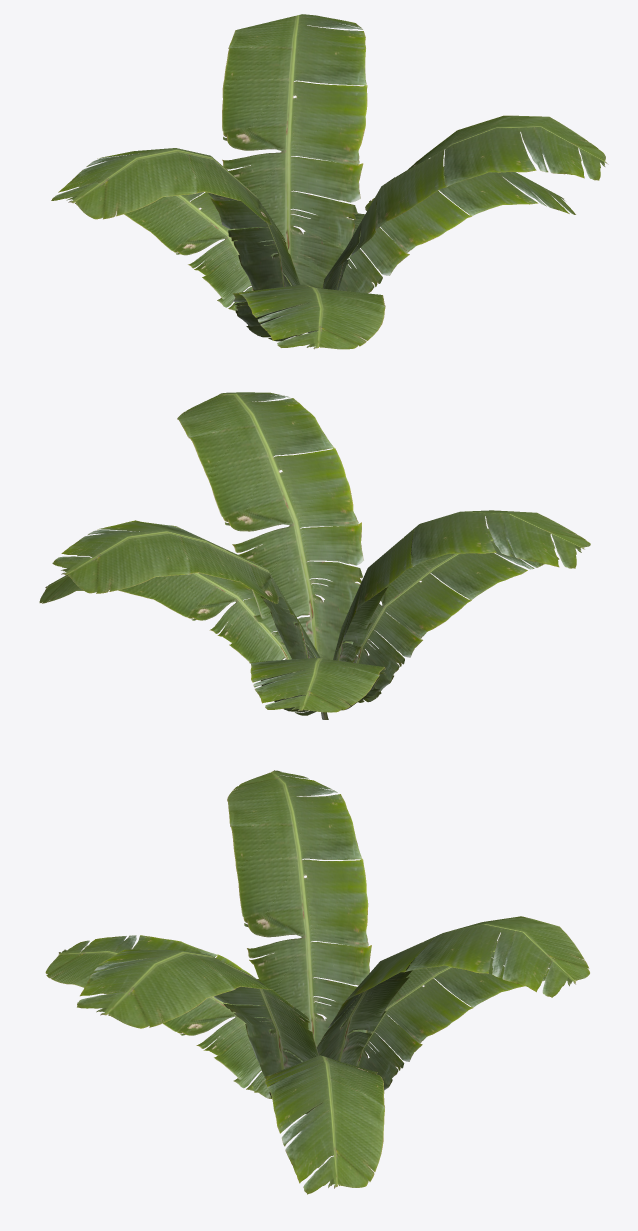
Rendered from elephant_ear.glb.
3 views of the same model, one above another, from view 1: azimuth 30°, elevation 25°; view 2: azimuth 150°, elevation 25°; view 3: azimuth 270°, elevation 25° (orthographic). The views are drawn at different scales.
Parts seen in each view (by area): view 1: trop_leav 4; view 2: trop_leav 4; view 3: trop_leav 4.
Boxes of the visible parts, x1,y1,x2,y2 form: trop_leav 4: (51, 14, 608, 349); trop_leav 4: (39, 392, 590, 719); trop_leav 4: (45, 770, 589, 1194).
Bounding box in the file's own units: 3.15 × 1.3 × 2.88.
Materials: 1 (1 with a texture image).
